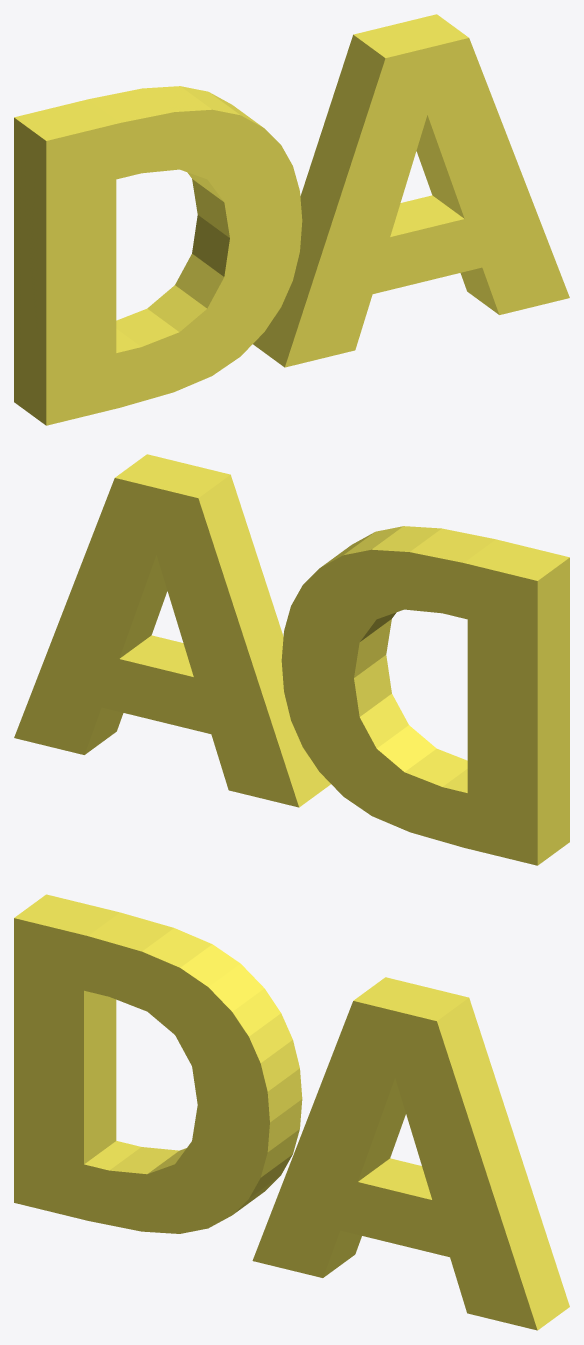
The model's file is suku_besar_da.glb.
The picture shows the model from 3 angles, top to bottom: view 1: azimuth 30°, elevation 25°; view 2: azimuth 150°, elevation 25°; view 3: azimuth 330°, elevation 25°; orthographic projection.
Visible parts, largest first — view 1: geometry_0; view 2: geometry_0; view 3: geometry_0.
Part boxes in pixels (left/top/right/bottom): geometry_0: left=14, top=14, right=569, bottom=425; geometry_0: left=14, top=454, right=569, bottom=865; geometry_0: left=14, top=894, right=569, bottom=1330.
Bounding box in the file's own units: 14.03 × 7.29 × 1.5.
